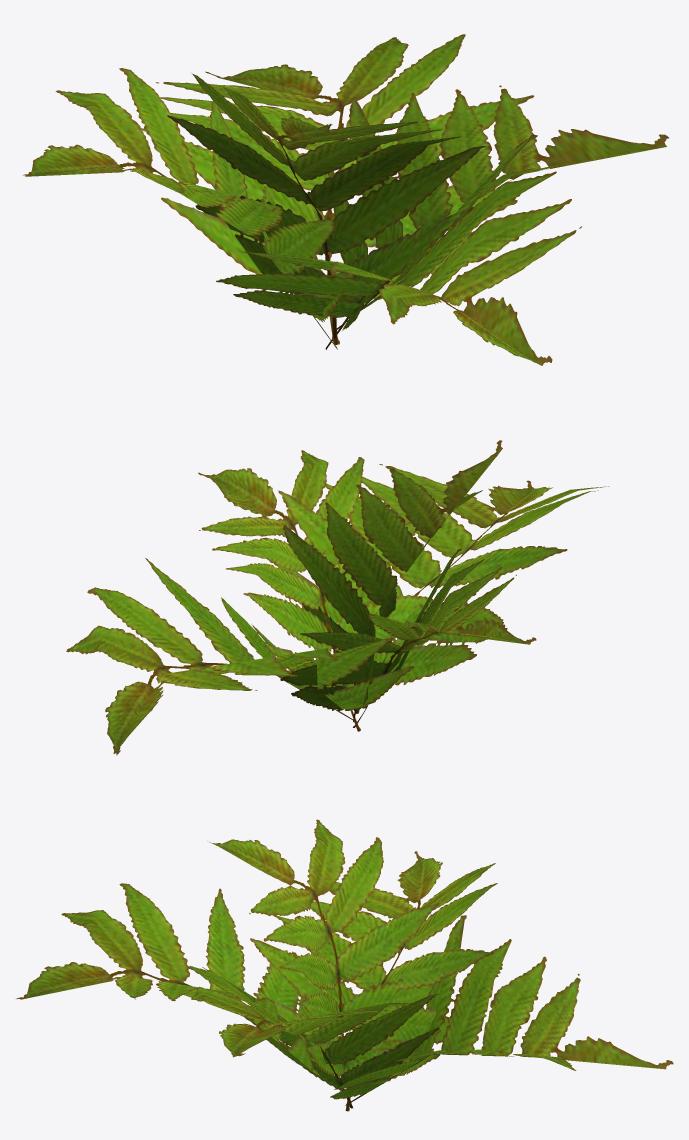
Rendered from Leaf.obj.
3 renders of one model, top to bottom at view 1: azimuth 30°, elevation 25°; view 2: azimuth 150°, elevation 25°; view 3: azimuth 270°, elevation 25°, orthographic. The views are drawn at different scales.
Size of the model in its own units: 15.77 by 9.48 by 22.03.
1 material, 1 textured.
